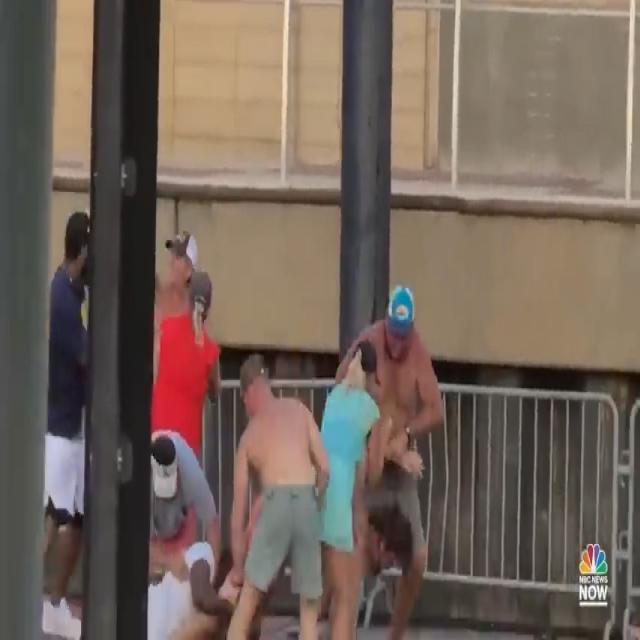fight: (47, 170, 475, 640)
